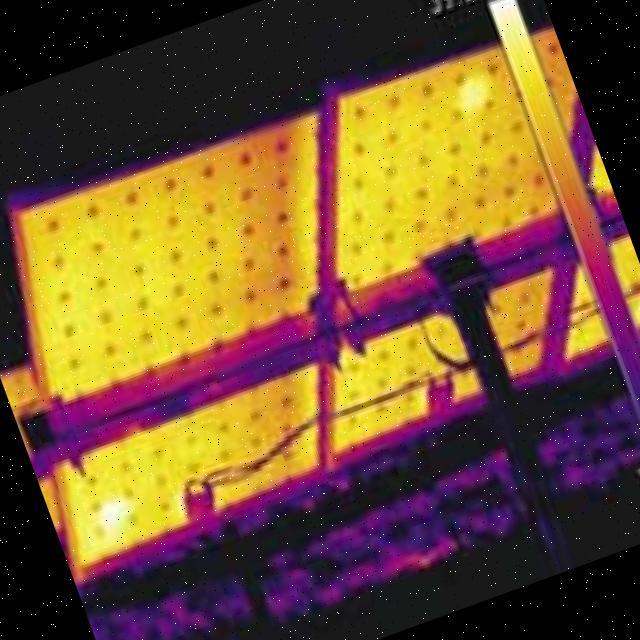Hotspot: (90, 492, 140, 538), (449, 72, 494, 116), (488, 0, 522, 24)
